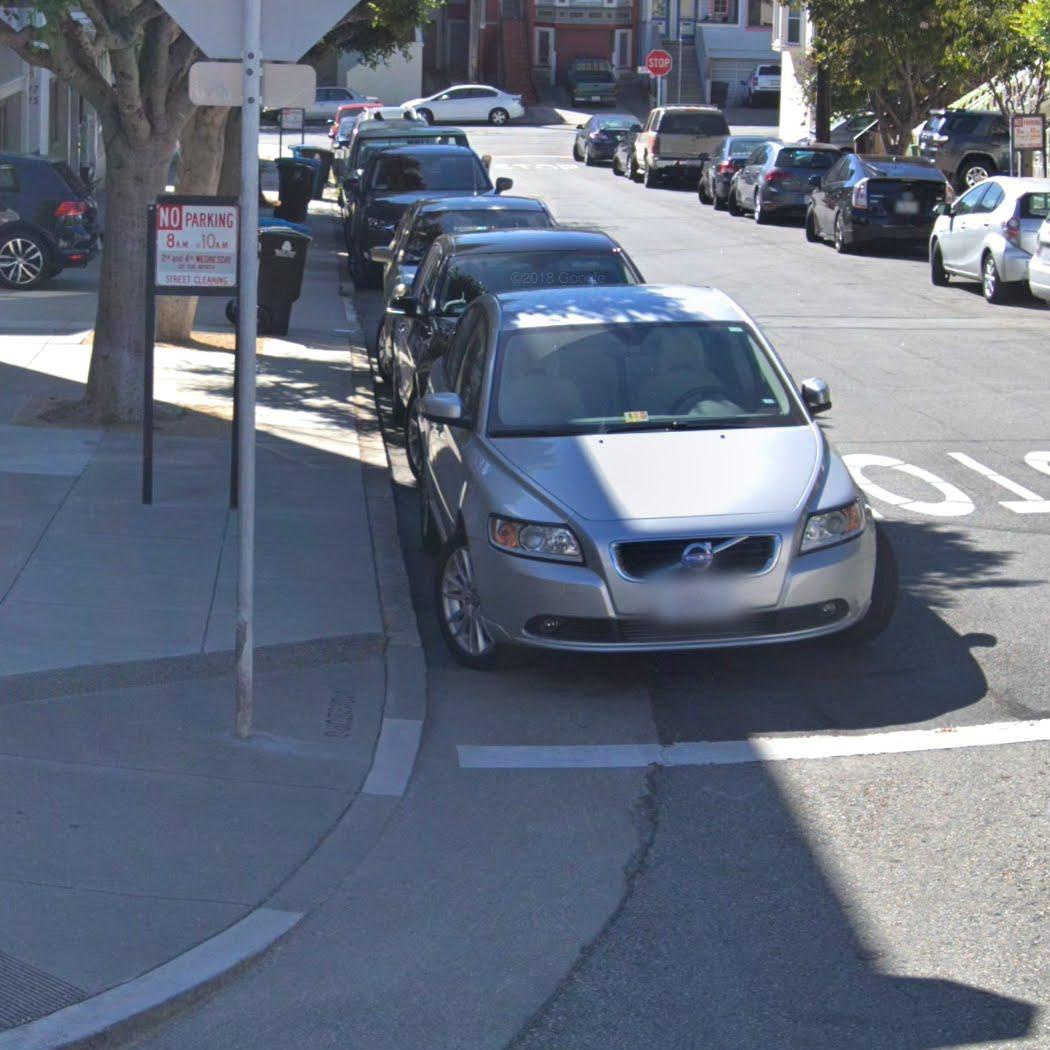No Parking: (147, 195, 242, 295)
